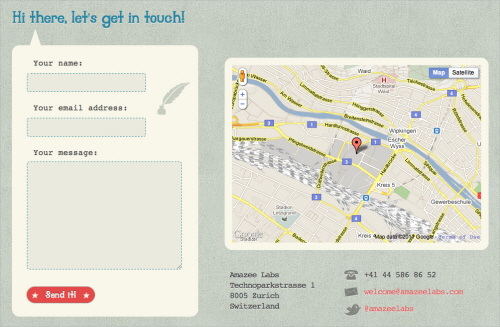_form_: (1, 1, 281, 327), (212, 85, 475, 326)
button: (26, 286, 96, 303)
field: (25, 159, 183, 271), (26, 116, 147, 138), (26, 72, 147, 93)
field_with_label: (23, 148, 185, 273), (24, 59, 149, 96), (25, 103, 150, 140)
